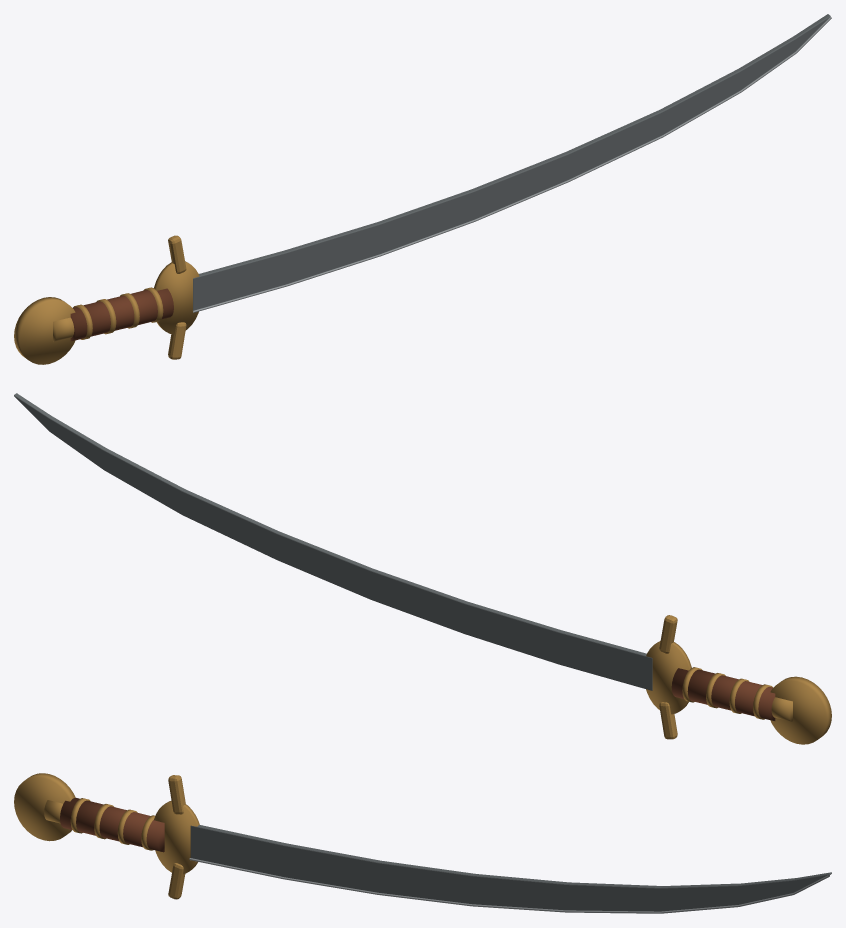
File: weapon_talwar_01.glb
The picture shows the model from 3 angles, top to bottom: view 1: azimuth 30°, elevation 25°; view 2: azimuth 150°, elevation 25°; view 3: azimuth 330°, elevation 25°; orthographic projection.
Parts seen in each view (by area): view 1: talwar_blade, talwar_pommel_disc, talwar_grip, talwar_cutting_edge_accent, talwar_guard; view 2: talwar_blade, talwar_pommel_disc, talwar_grip, talwar_guard; view 3: talwar_blade, talwar_grip, talwar_pommel_disc, talwar_guard, talwar_cutting_edge_accent, talwar_guard_upper, talwar_guard_lower, talwar_pommel_button.
Boxes of the visible parts, left/top/right/bottom form: talwar_blade: left=193, top=14, right=830, bottom=310; talwar_pommel_disc: left=14, top=297, right=75, bottom=364; talwar_grip: left=70, top=288, right=173, bottom=341; talwar_cutting_edge_accent: left=193, top=16, right=831, bottom=312; talwar_guard: left=154, top=261, right=199, bottom=334; talwar_blade: left=14, top=393, right=652, bottom=690; talwar_pommel_disc: left=770, top=676, right=831, bottom=744; talwar_grip: left=671, top=668, right=775, bottom=720; talwar_guard: left=646, top=641, right=691, bottom=714; talwar_blade: left=190, top=825, right=831, bottom=911; talwar_grip: left=60, top=797, right=164, bottom=852; talwar_pommel_disc: left=14, top=773, right=75, bottom=841; talwar_guard: left=154, top=800, right=199, bottom=874; talwar_cutting_edge_accent: left=189, top=858, right=829, bottom=913; talwar_guard_upper: left=168, top=775, right=185, bottom=814; talwar_guard_lower: left=168, top=863, right=185, bottom=899; talwar_pommel_button: left=44, top=800, right=62, bottom=823.
Bounding box in the file's own units: 1.04 × 0.2253 × 0.039.
